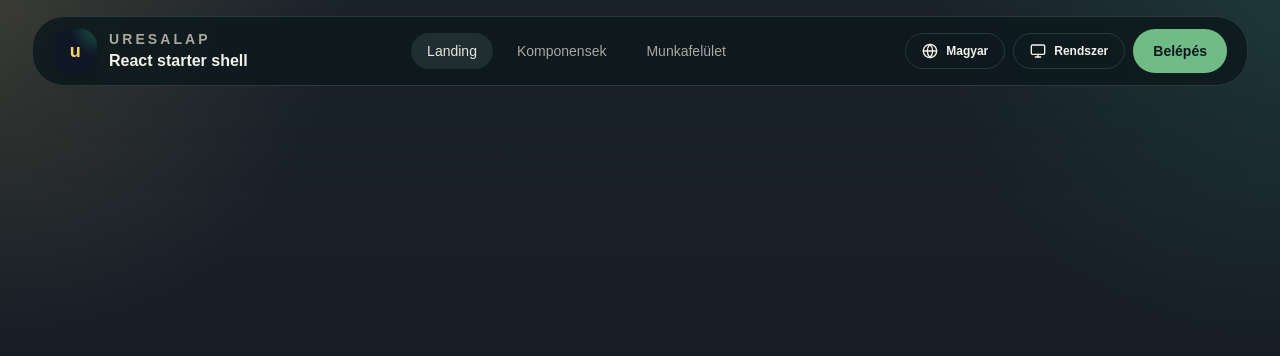
it: SiteHeader locale switch › átvált angol nyelvre a fejléc menüből
Click the button "Magyar" at [955, 51], box x1=905 y1=33 x2=1005 y2=69
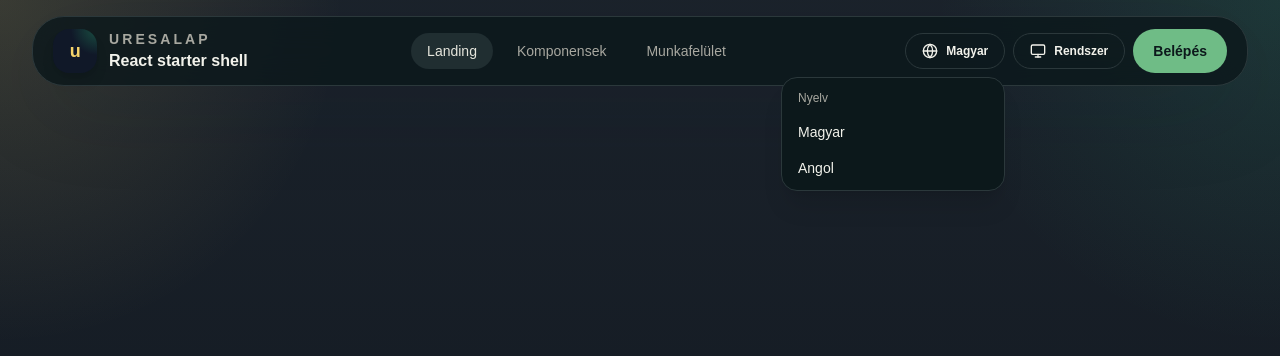
Click the menu item "Angol" at [816, 168], box x1=798 y1=160 x2=834 y2=176
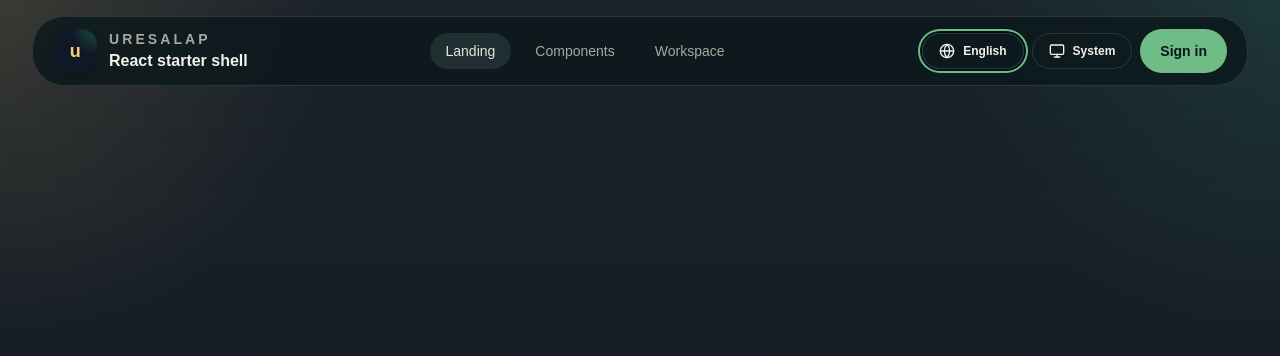
Result: the button "English" is shown at x1=922 y1=33 x2=1024 y2=69
Result: the link "Sign in" is shown at x1=1140 y1=29 x2=1227 y2=73
